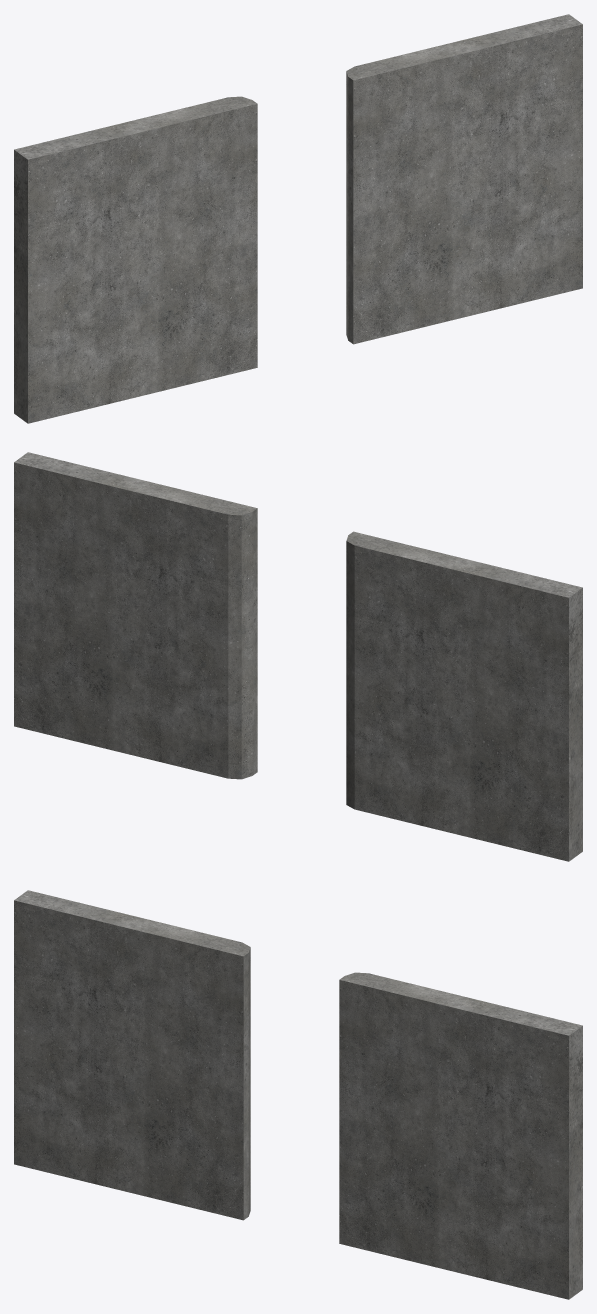
Rendered from Wall04.fbx.
3 renders of one model, top to bottom at view 1: azimuth 30°, elevation 25°; view 2: azimuth 150°, elevation 25°; view 3: azimuth 330°, elevation 25°, orthographic.
Visible parts, largest first — view 1: Wall04; view 2: Wall04; view 3: Wall04.
Boxes of the visible parts, bbox=[...] form: Wall04: bbox=[14, 14, 582, 423]; Wall04: bbox=[14, 452, 582, 861]; Wall04: bbox=[14, 890, 582, 1299].
Size of the model in its own units: 1455 by 661 by 63.62.
Materials: 1 (1 with a texture image).
